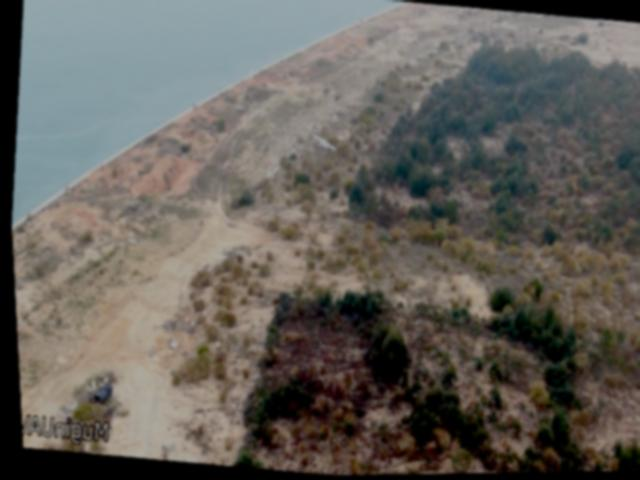plane: (308, 132, 336, 152)
